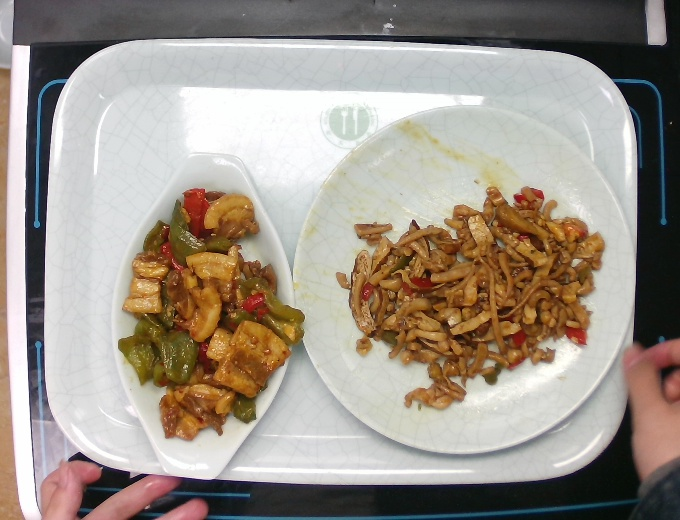JYsf-Da_Yuan_Pan: (295, 100, 634, 462)
JYsf-Yu_Pan: (110, 146, 302, 481)
